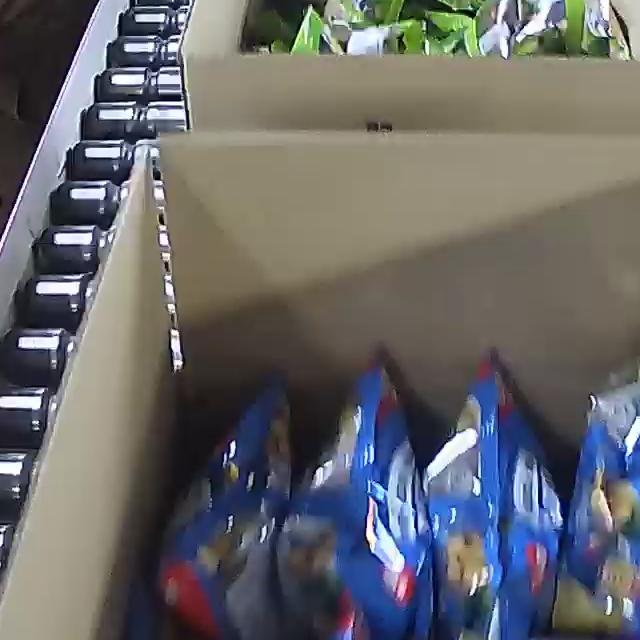paprika: (111, 307, 640, 640)
yogurt: (280, 0, 632, 47)
